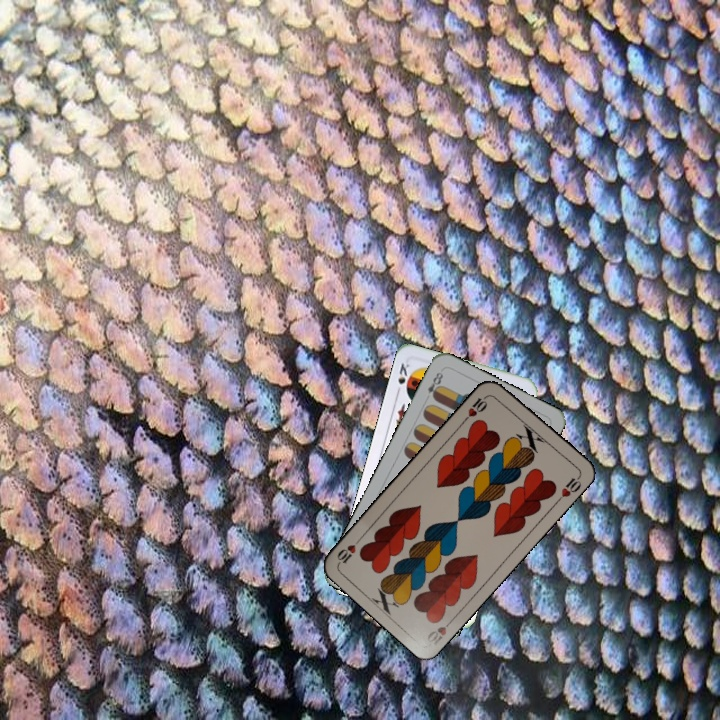E8: (423, 368, 446, 402)
H10: (423, 614, 458, 648), (459, 391, 491, 424)
SK: (392, 359, 412, 398)
